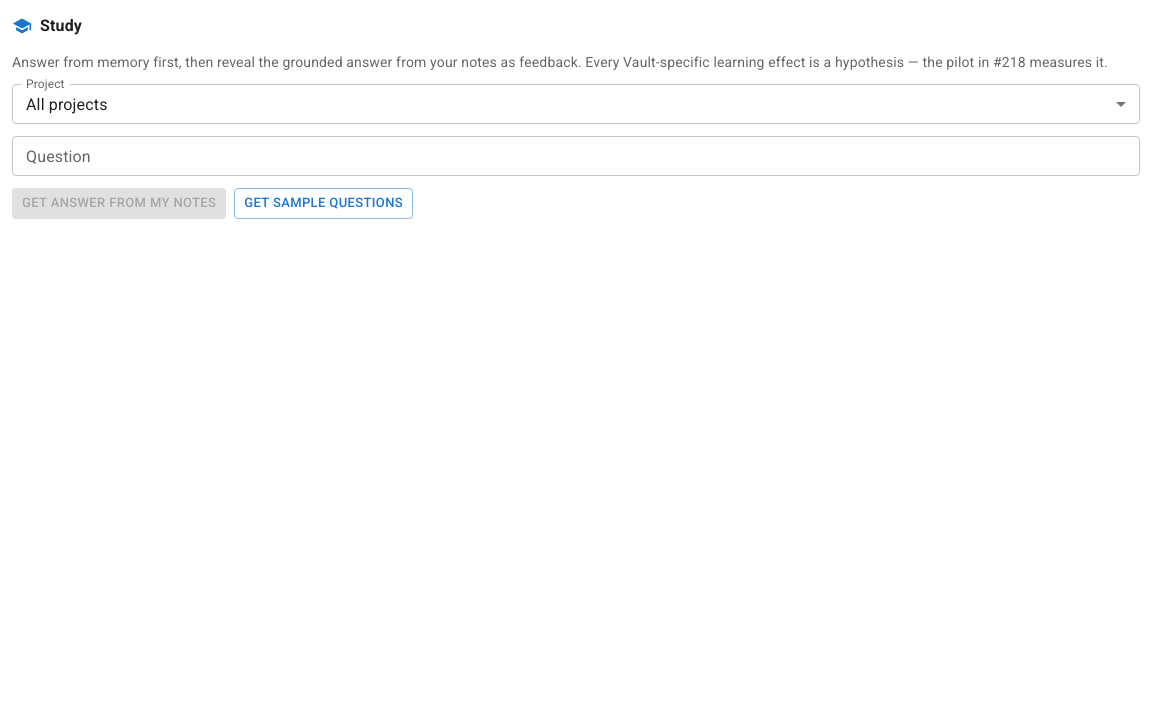
Test case: StudyView › reveals the answer and citation chips after a typed recall
This screenshot has width=1152, height=720.
Type "What is PARA?" into the field labelled "Question" at (576, 156), box [12,136,1140,176]
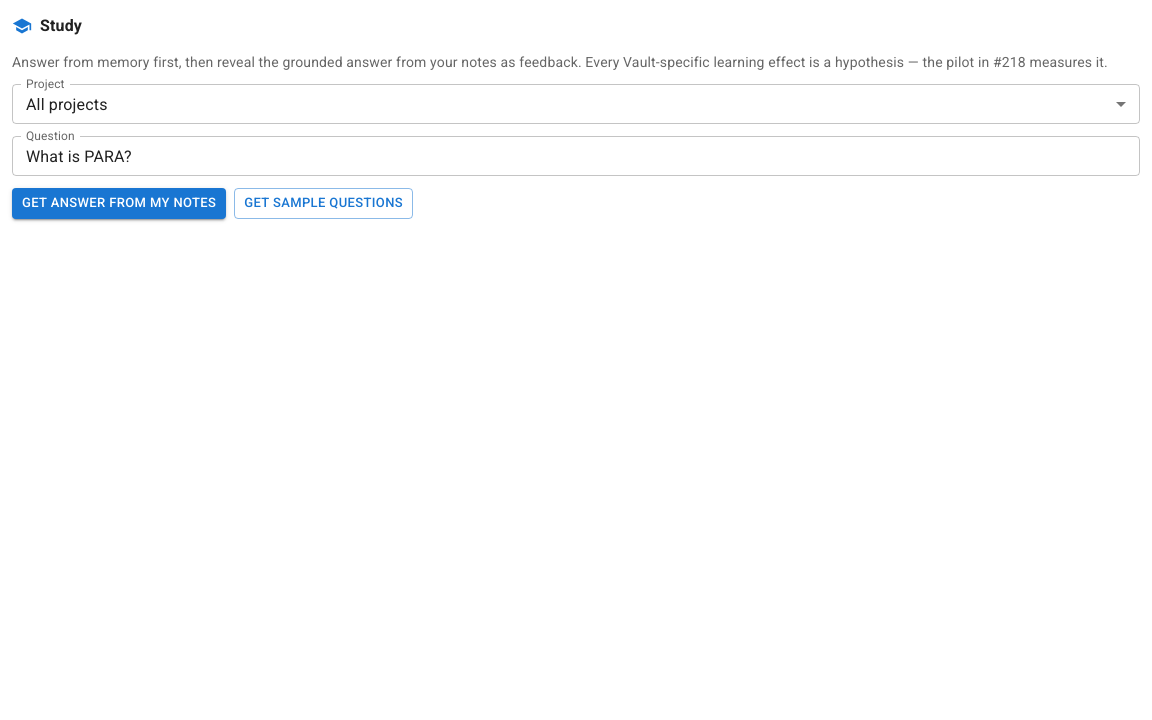
Click the button "Get answer from my notes" at (119, 203), box [12,188,226,219]
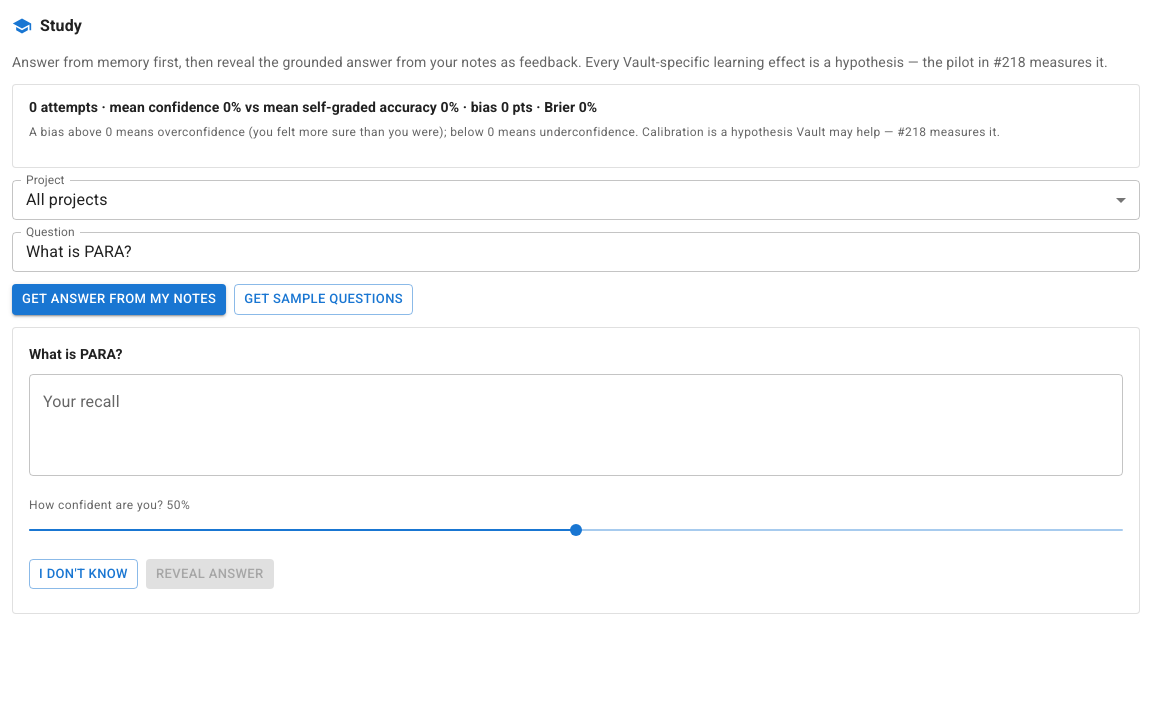
Type "Projects, Areas, Resources, Archives" into the text box labelled "Your recall" at (576, 425), box [43,390,1109,459]
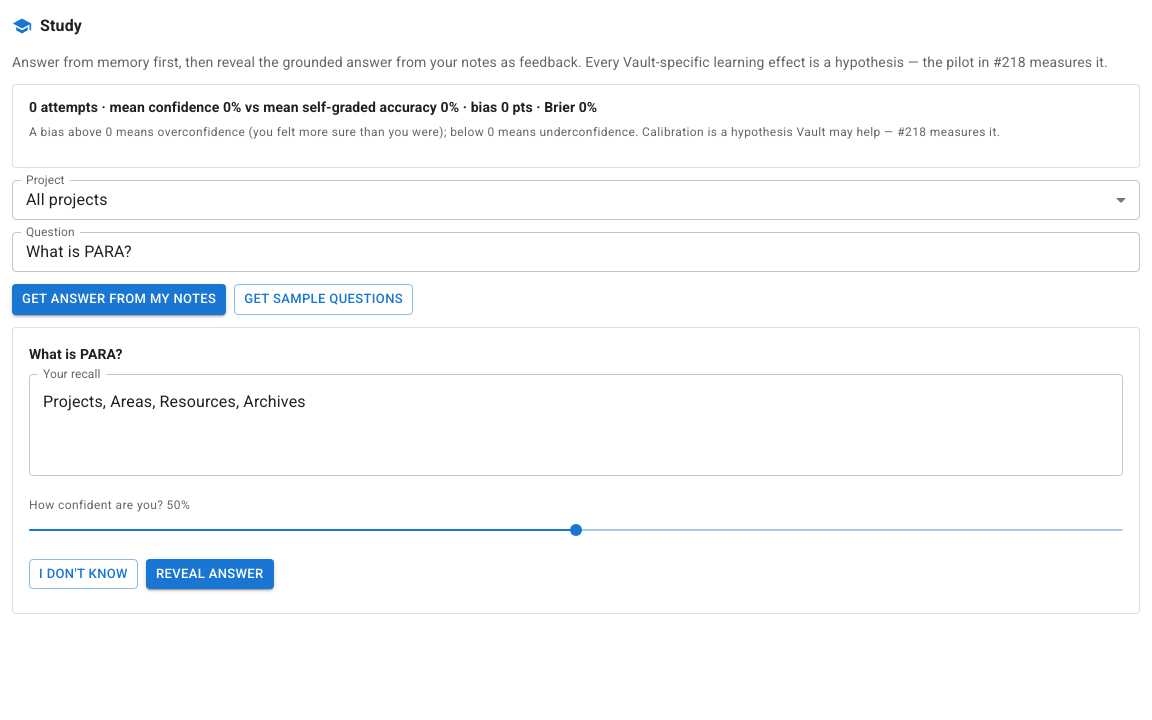
Set the slider named "Confidence" to "80" at (576, 530), box [570,524,582,536]
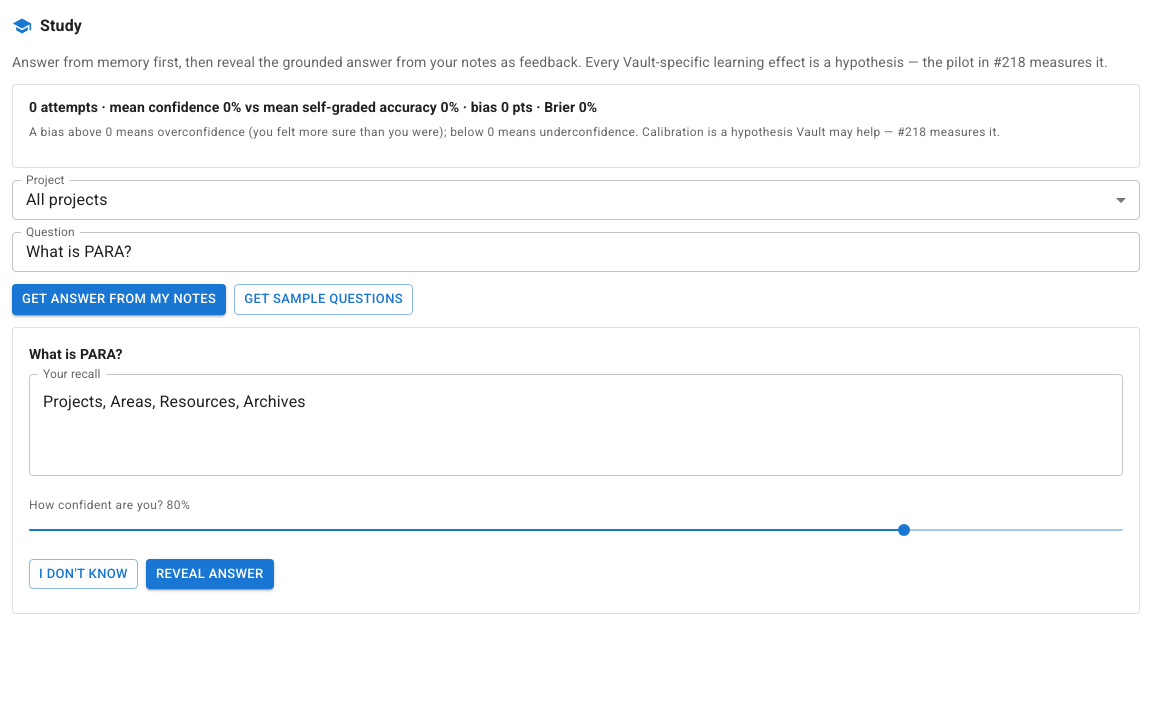
Click the button "Reveal answer" at (210, 574), box [146,559,274,590]
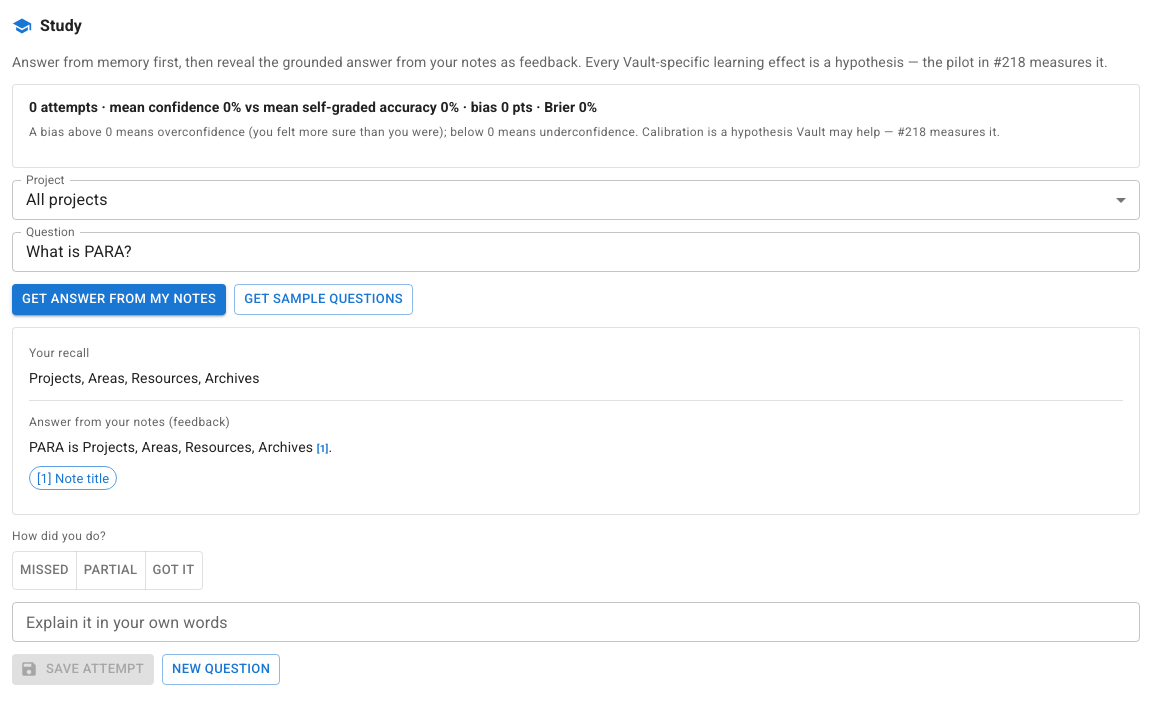
Result: the text "PARA is Projects, Areas, Resources, Archives [1]." is shown at [29,439,332,455]
Result: the text "[1] Note title" is shown at [37,470,109,486]
